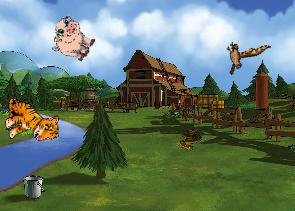eagle: (214, 25, 271, 84)
pig: (45, 12, 100, 66)
tiger: (3, 96, 59, 143)
